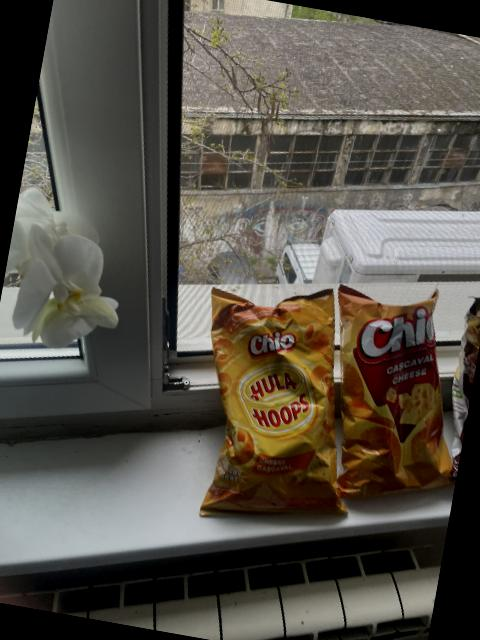Chio Cascaval 125g: (308, 277, 480, 512)
Chio Hula Hoops Cheese 70g: (174, 275, 374, 532)
